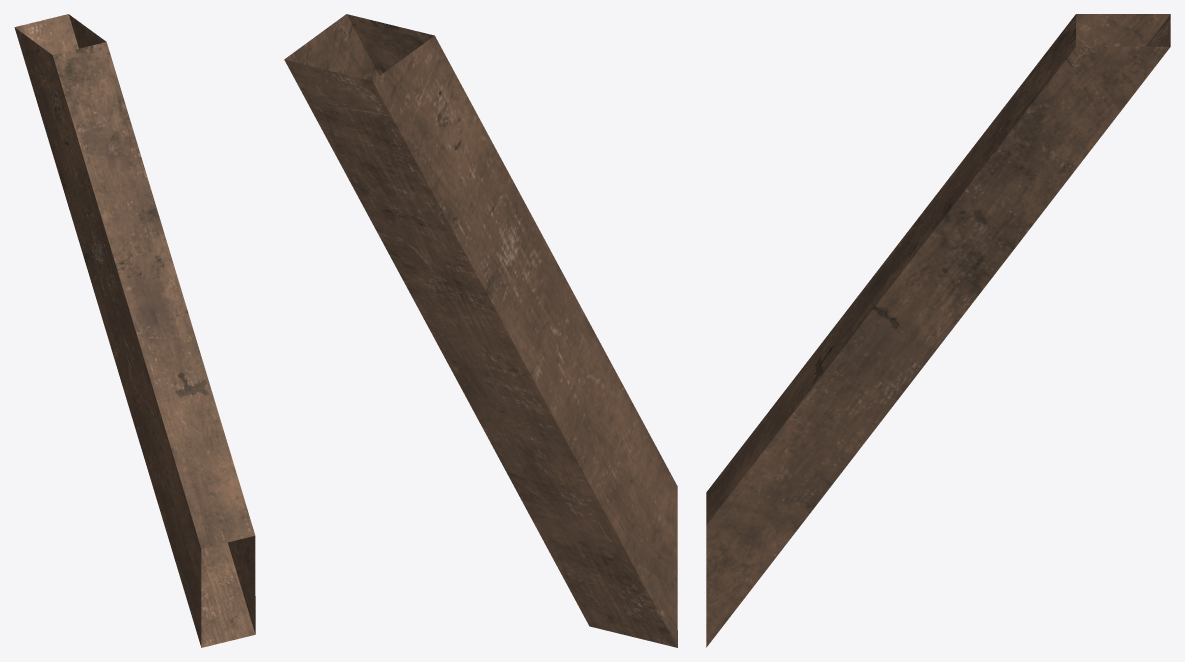
File: SM_AtticBeam01_4_LOD0.glb
The picture shows the model from 3 angles, left to right: view 1: azimuth 30°, elevation 25°; view 2: azimuth 150°, elevation 25°; view 3: azimuth 270°, elevation 25°; orthographic projection. The views are drawn at different scales.
Parts seen in each view (by area): view 1: SM_AtticBeam01_4_LOD0; view 2: SM_AtticBeam01_4_LOD0; view 3: SM_AtticBeam01_4_LOD0.
Boxes of the visible parts, <box> form: SM_AtticBeam01_4_LOD0: <box>14,14,255,647</box>; SM_AtticBeam01_4_LOD0: <box>284,14,677,647</box>; SM_AtticBeam01_4_LOD0: <box>706,14,1170,647</box>.
Size of the model in its own units: 0.2 by 1.71 by 1.2.
1 material, 1 textured.
